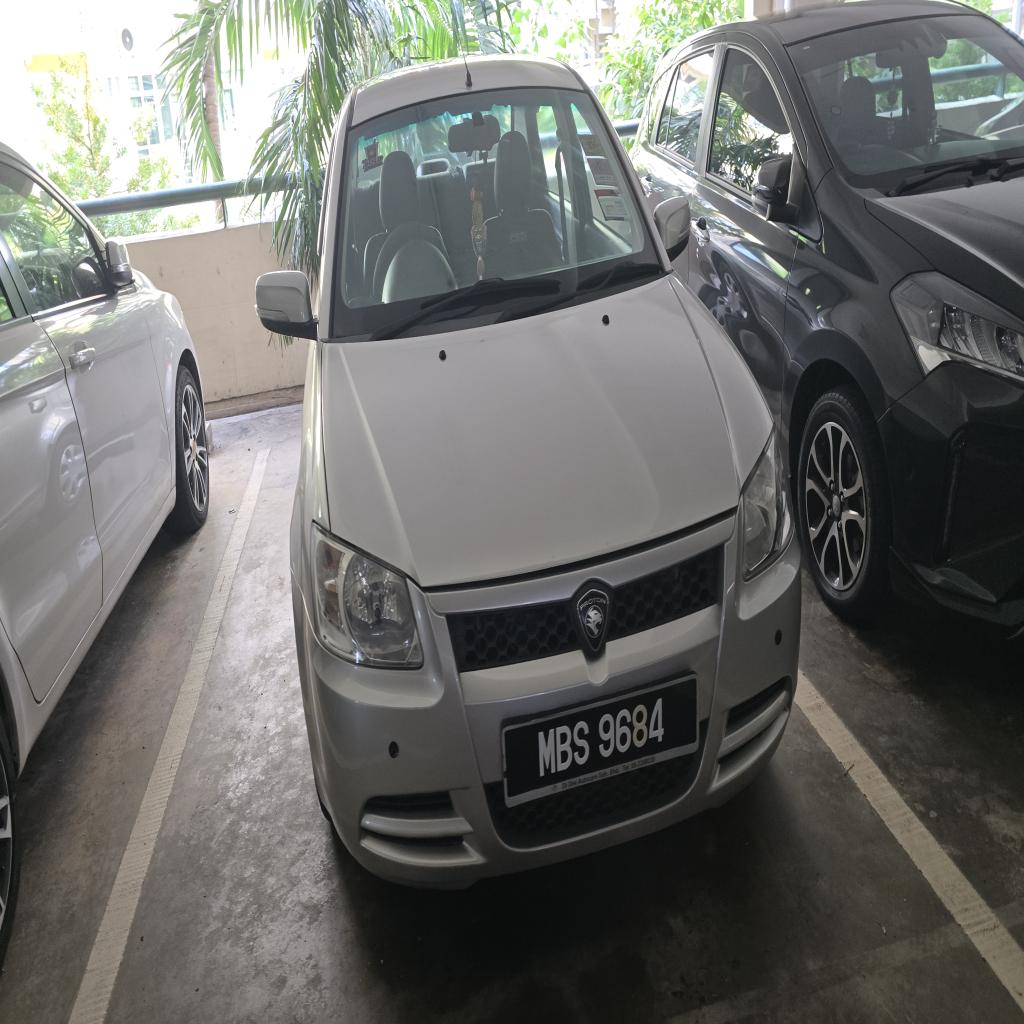car: (257, 58, 799, 885)
car plate: (503, 678, 698, 806)
